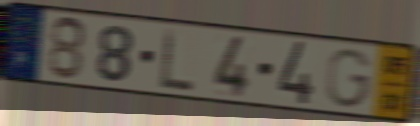4: (211, 33, 252, 100), (276, 39, 315, 107)
8: (45, 15, 90, 83), (96, 23, 134, 83)
G: (325, 47, 376, 111)
L: (159, 26, 196, 93)
